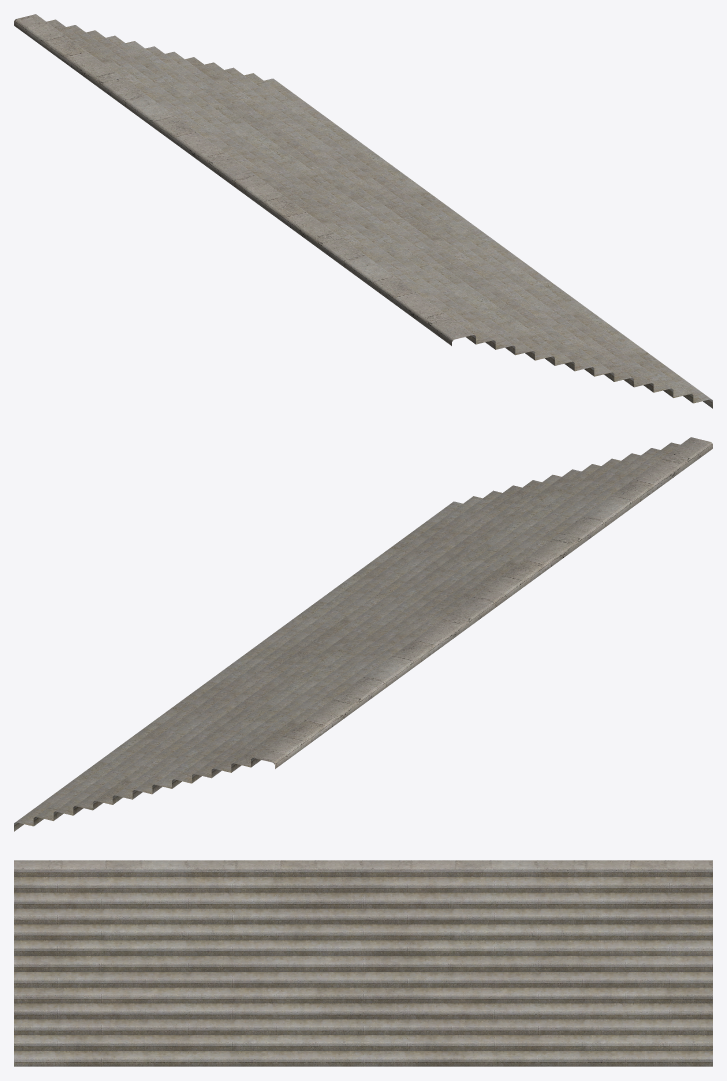
File: Stairs4.fbx
The picture shows the model from 3 angles, top to bottom: view 1: azimuth 30°, elevation 25°; view 2: azimuth 150°, elevation 25°; view 3: azimuth 270°, elevation 25°; orthographic projection. The views are drawn at different scales.
Visible parts, largest first — view 1: LV_Campagna_Uni_BigStair01_SM_CJH; view 2: LV_Campagna_Uni_BigStair01_SM_CJH; view 3: LV_Campagna_Uni_BigStair01_SM_CJH.
Boxes of the visible parts, x1=… form: LV_Campagna_Uni_BigStair01_SM_CJH: x1=14, y1=14, x2=712, y2=408; LV_Campagna_Uni_BigStair01_SM_CJH: x1=14, y1=437, x2=712, y2=831; LV_Campagna_Uni_BigStair01_SM_CJH: x1=14, y1=860, x2=712, y2=1066.
Size of the model in its own units: 1.32 by 0.64 by 3.84.
